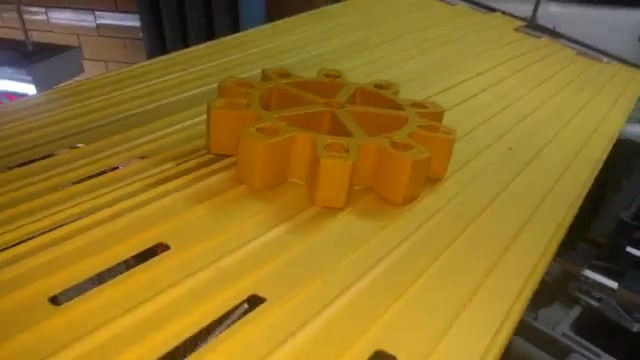gear: (203, 53, 468, 222)
